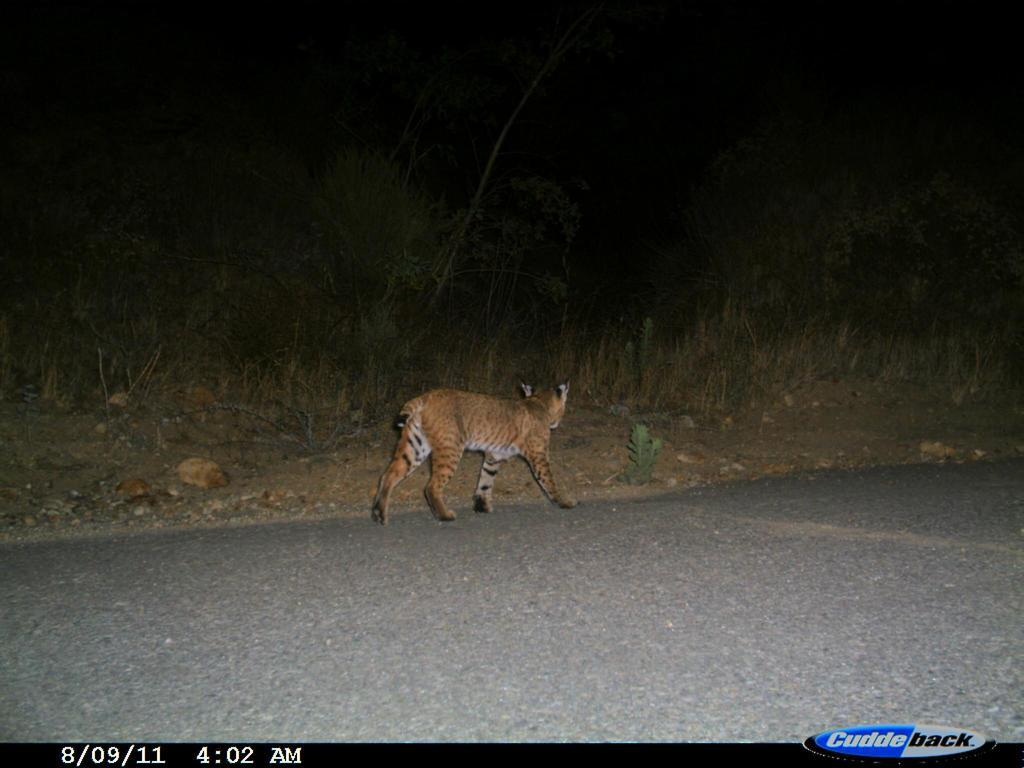bobcat: (361, 369, 591, 536)
